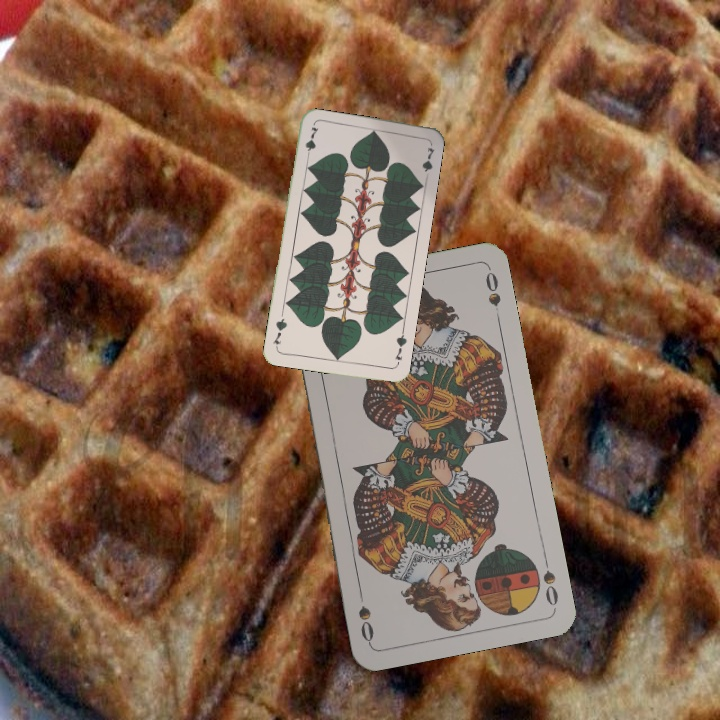G7: (390, 327, 409, 368), (301, 123, 320, 163)
SO: (538, 551, 561, 609)
